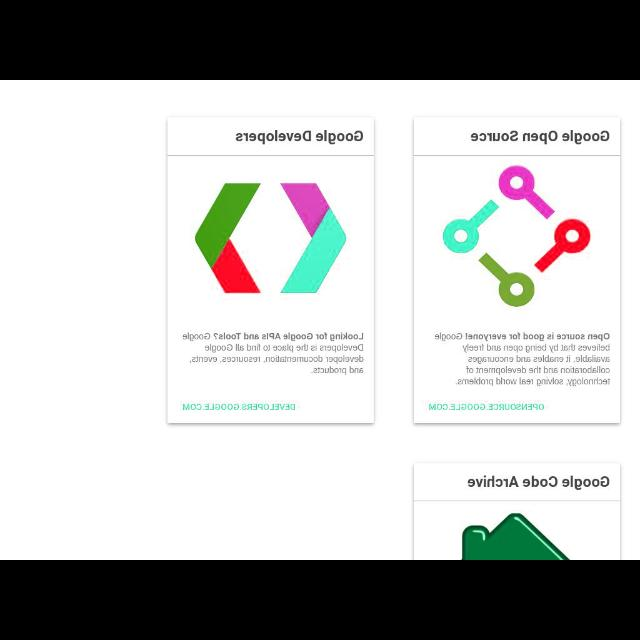image: (441, 164, 589, 308), (194, 182, 346, 296)
link: (181, 401, 297, 413), (423, 402, 547, 412)
text: (430, 332, 612, 386), (182, 333, 366, 377), (465, 474, 613, 494), (468, 125, 614, 145), (229, 129, 365, 145)
